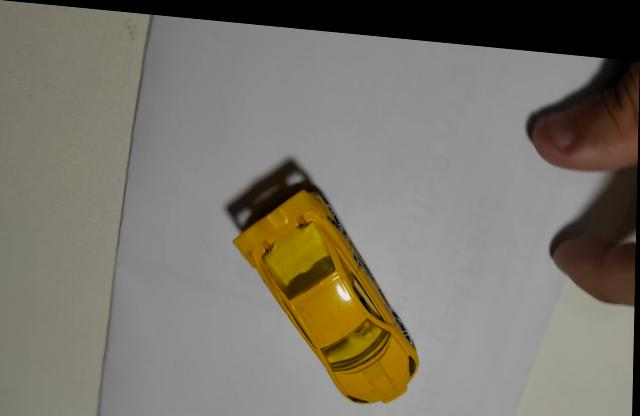07_RHLTURBO: (234, 178, 422, 396)
